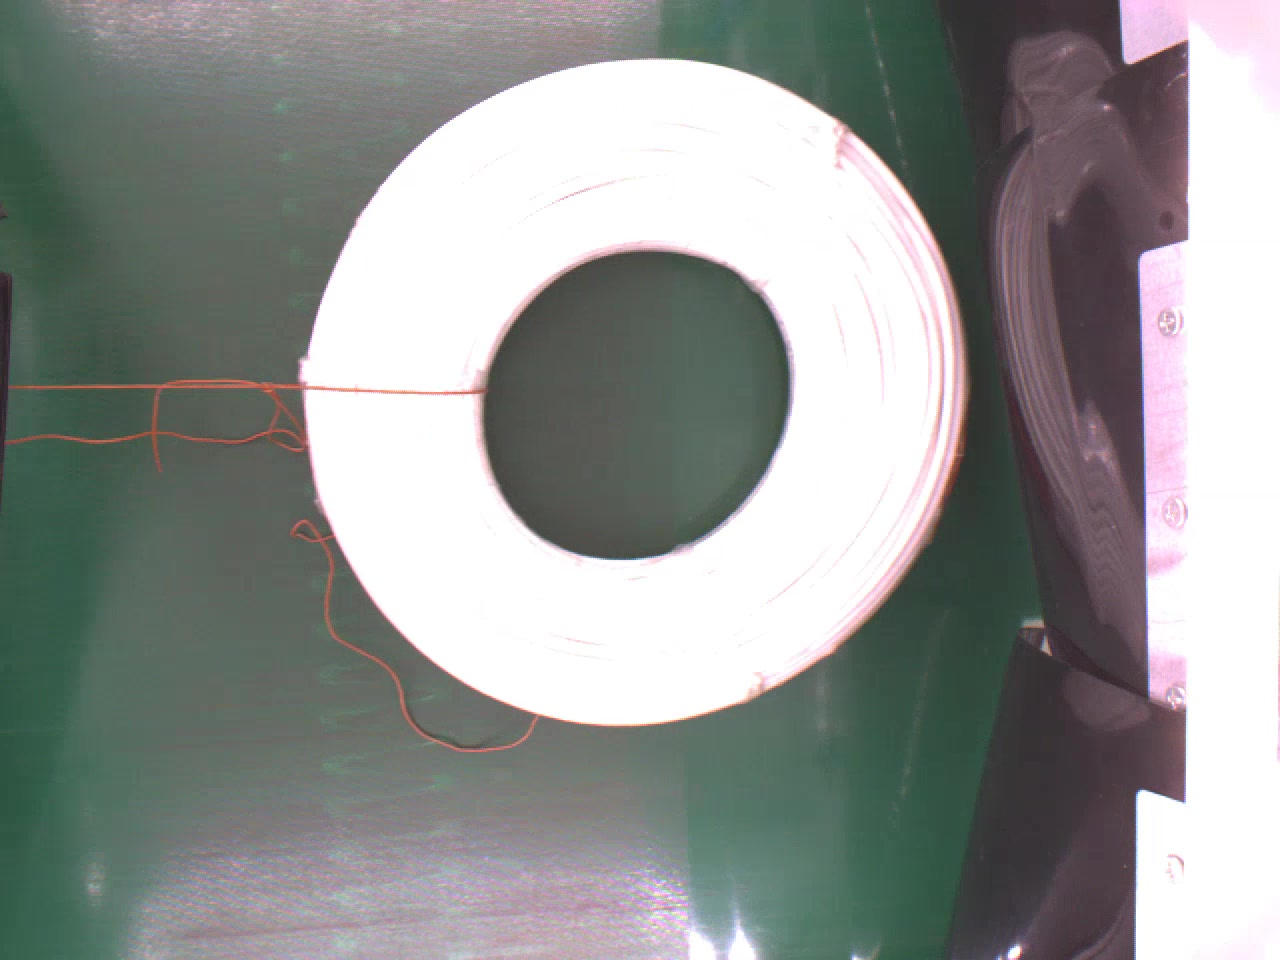white: (299, 62, 980, 727)
